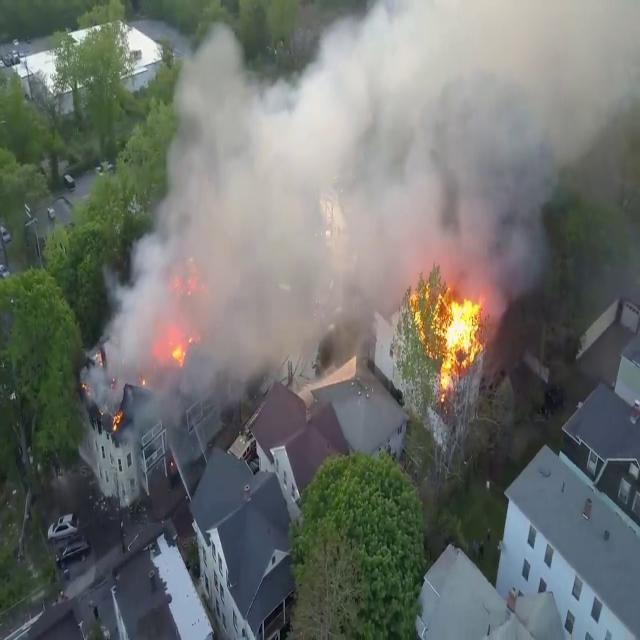Fire: (406, 266, 488, 392), (162, 318, 193, 378)
Smoke: (92, 1, 374, 400), (380, 0, 640, 287)
